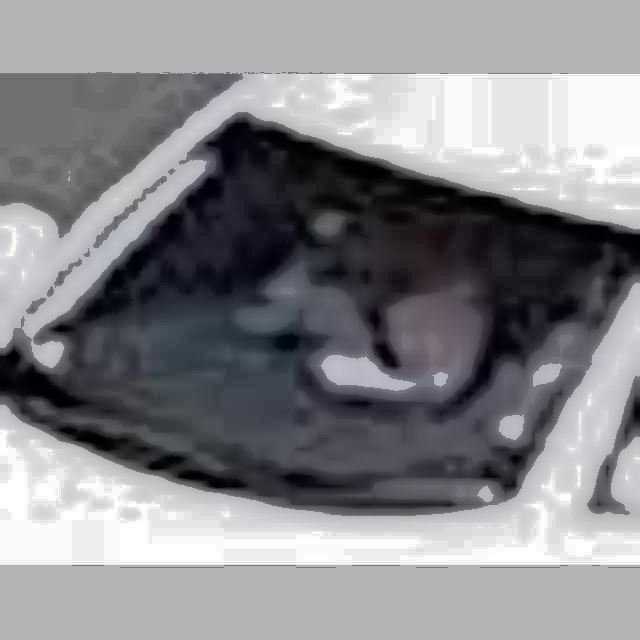pakai: (223, 167, 510, 445)
